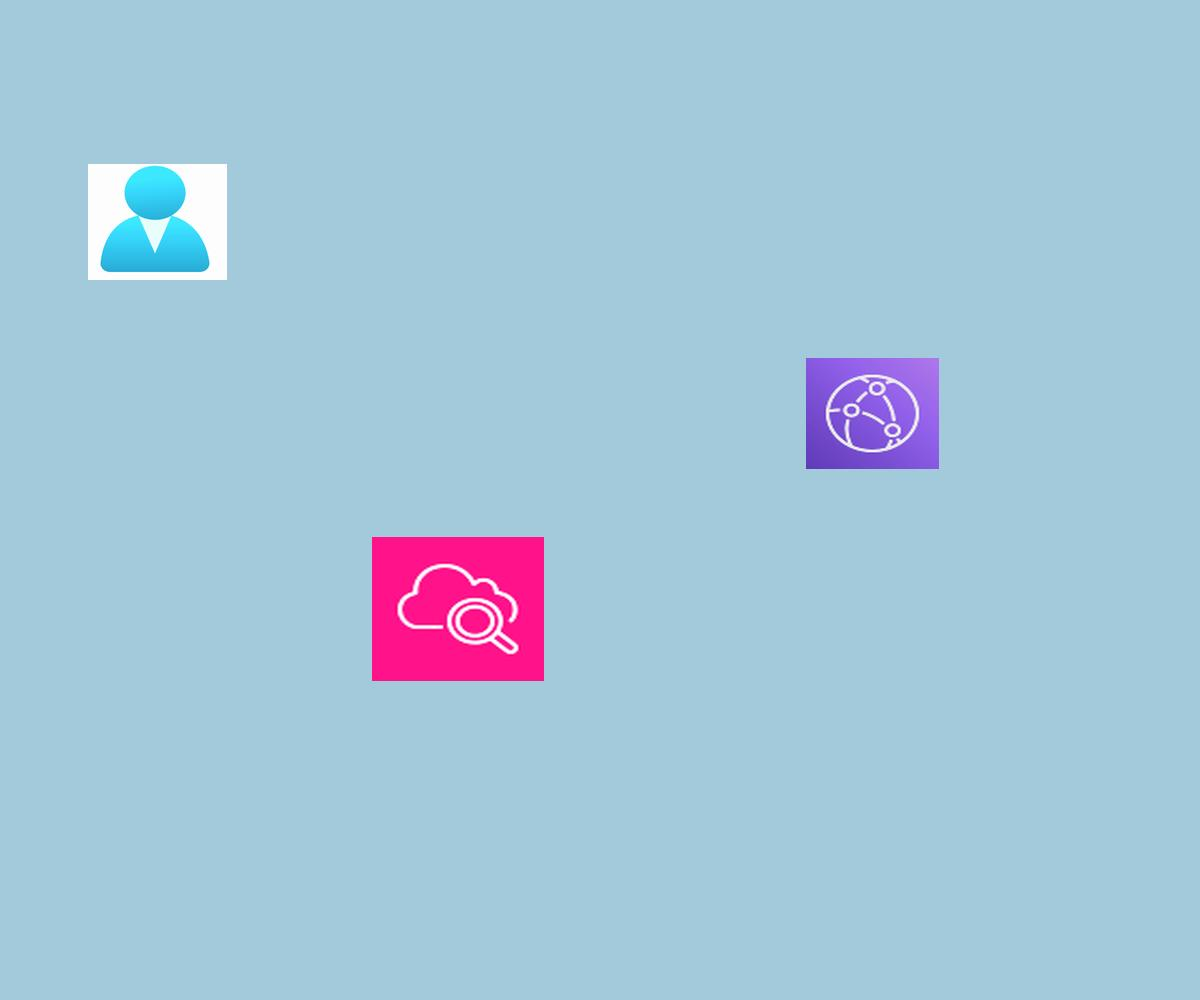AWS-CloudFront: (806, 358, 939, 469)
AWS-CloudWatch: (372, 537, 544, 681)
Azure_users: (88, 164, 227, 280)
